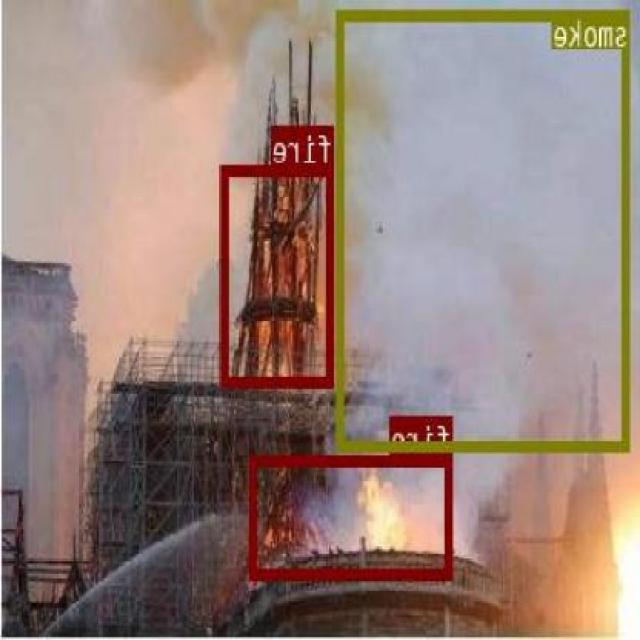Fire: (228, 125, 336, 383), (290, 477, 427, 570)
Smoke: (326, 39, 598, 456), (13, 0, 265, 383)
